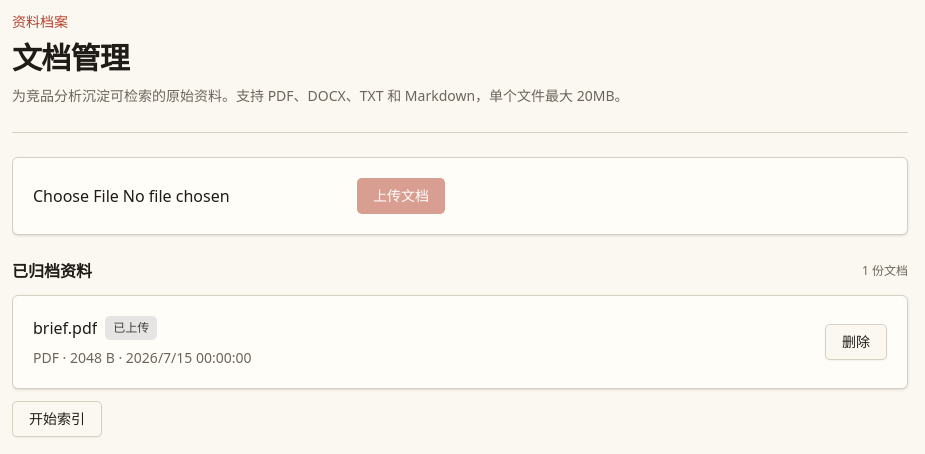
Test: SpaceDocuments › indexes an uploaded document then refreshes the list
Step 1. Click the button with aria-label "开始索引 brief.pdf" → (57, 419), box [12,401,102,437]
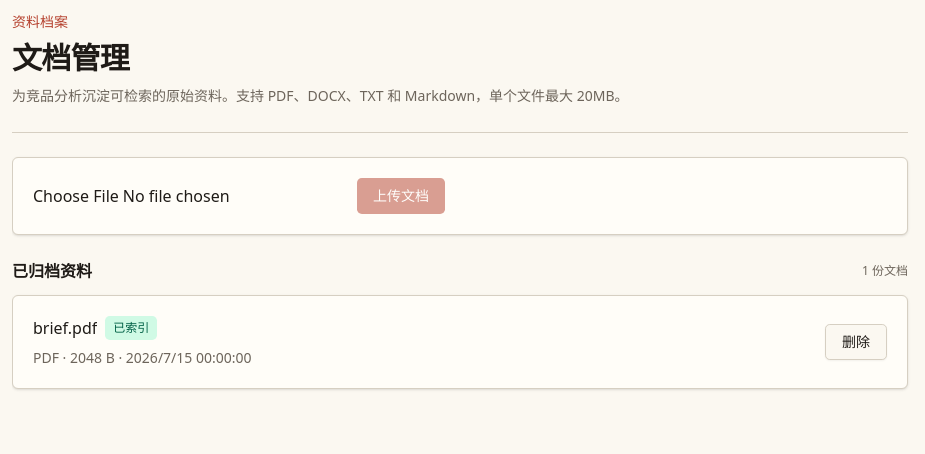
Now the text "已索引" is shown, box [105,316,157,340]
